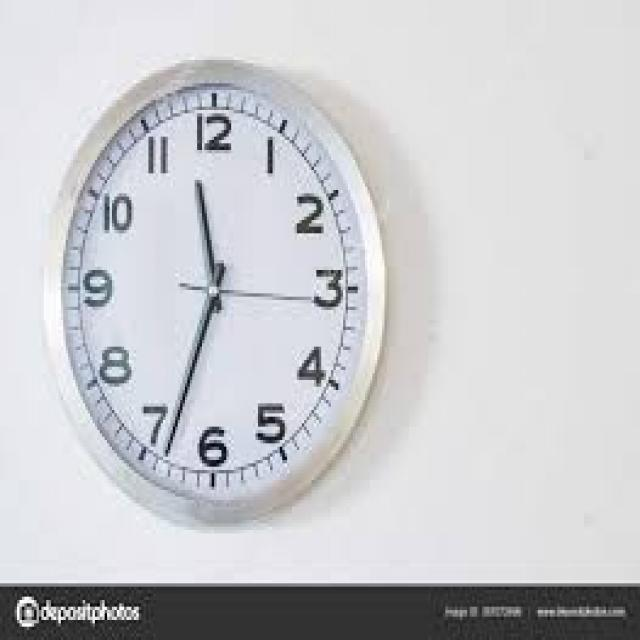Clocks-images: (41, 58, 389, 530)
